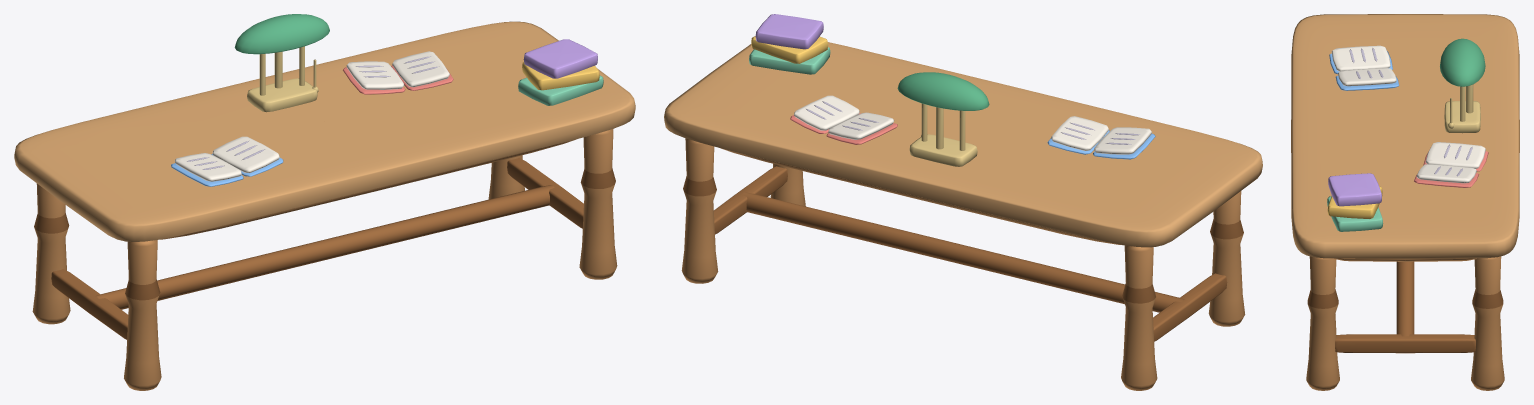
File: library_table.glb
The picture shows the model from 3 angles, left to right: view 1: azimuth 30°, elevation 25°; view 2: azimuth 150°, elevation 25°; view 3: azimuth 270°, elevation 25°; orthographic projection. The views are drawn at different scales.
Parts seen in each view (by area): view 1: library_table; view 2: library_table; view 3: library_table.
Part boxes in pixels (box(x1,y1,x2,y2)): library_table: box(14, 14, 635, 390); library_table: box(664, 14, 1262, 390); library_table: box(1291, 14, 1519, 390).
Size of the model in its own units: 2.4 by 1.12 by 1.
1 material, 1 textured.
